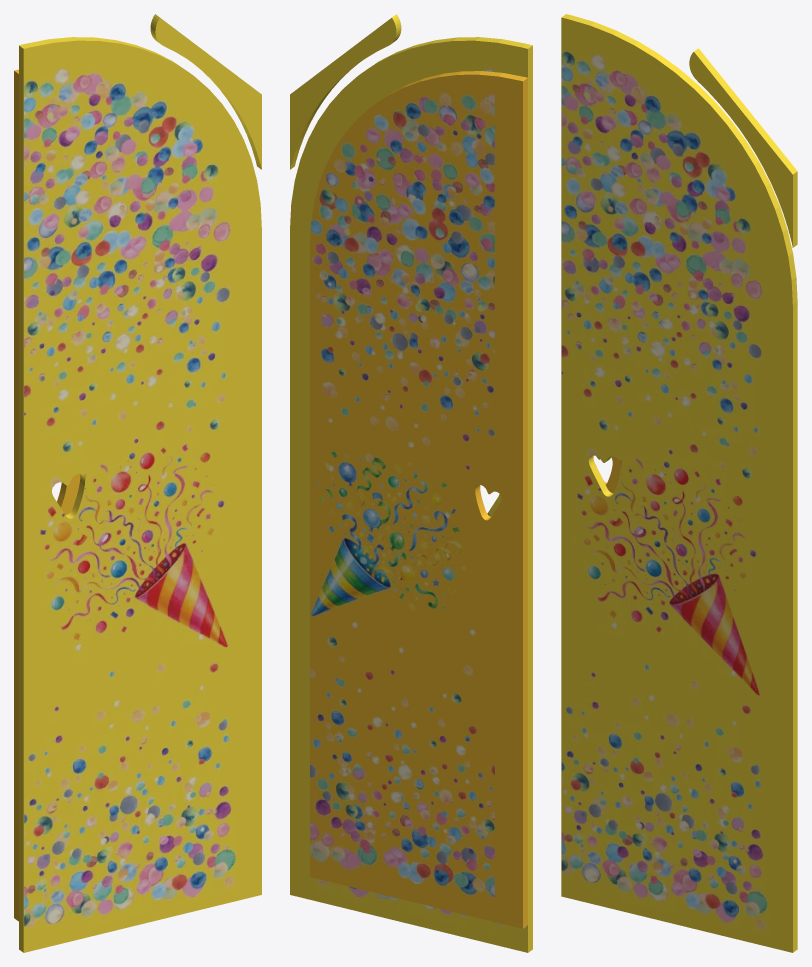
The model's file is door-left-leaf.glb.
The picture shows the model from 3 angles, left to right: view 1: azimuth 30°, elevation 25°; view 2: azimuth 150°, elevation 25°; view 3: azimuth 330°, elevation 25°; orthographic projection. The views are drawn at different scales.
Visible parts, largest first — view 1: door-left-leaf; view 2: door-left-leaf; view 3: door-left-leaf.
Boxes of the visible parts, left/top/right/bottom form: door-left-leaf: left=14, top=14, right=261, bottom=952; door-left-leaf: left=290, top=14, right=532, bottom=952; door-left-leaf: left=561, top=14, right=797, bottom=952.
Size of the model in its own units: 252 by 914 by 18.
4 materials, 2 textured.
